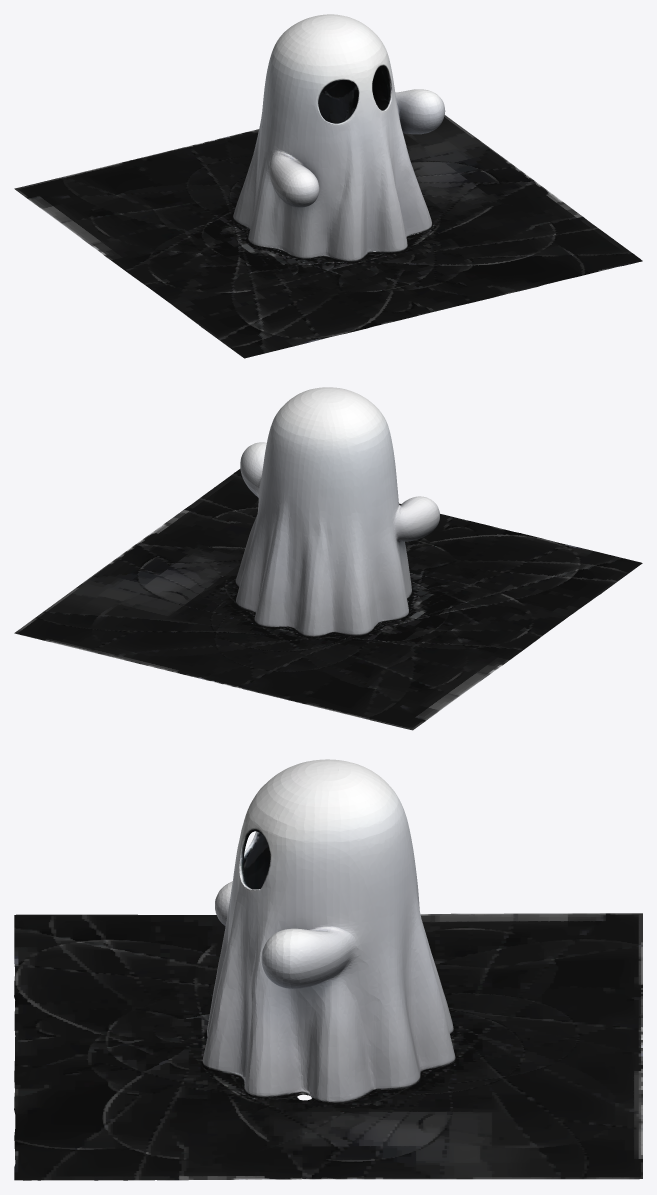
The model's file is replicate-prediction-qqf8jyj56srj40ct83285qxq7c-0.glb.
3 views of the same model, one above another, from view 1: azimuth 30°, elevation 25°; view 2: azimuth 150°, elevation 25°; view 3: azimuth 270°, elevation 25° (orthographic). The views are drawn at different scales.
Parts seen in each view (by area): view 1: world; view 2: world; view 3: world.
Part boxes in pixels (box(x1,y1,x2,y2)): world: box(14, 14, 642, 358); world: box(14, 387, 642, 730); world: box(14, 759, 642, 1180).
Bounding box in the file's own units: 1 × 0.4889 × 1.
1 material, 1 textured.
